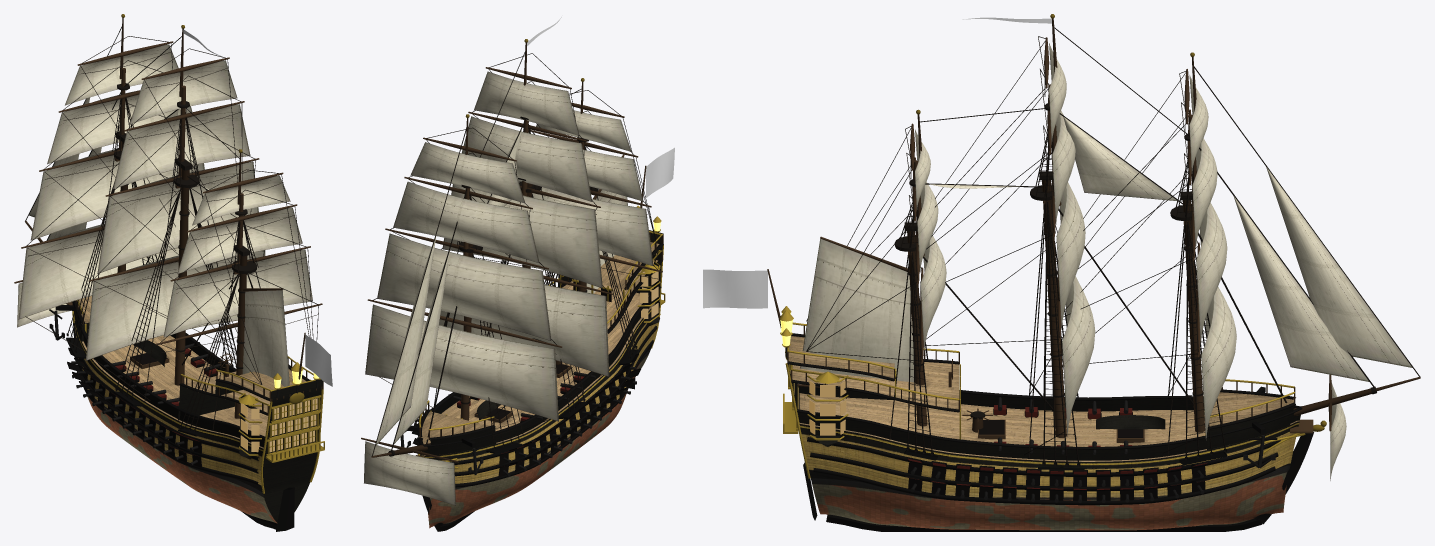
The model's file is battleship.gltf.
3 views of the same model, side by side, from view 1: azimuth 30°, elevation 25°; view 2: azimuth 150°, elevation 25°; view 3: azimuth 270°, elevation 25° (orthographic). The views are drawn at different scales.
Parts seen in each view (by area): view 1: Hull, Sail_1_1_E, Sail_1_0, Sail_1_2, Sail_2_1, Sail_0_0, Sail_0_1_E, Sail_2_2, Sail_spanker, Sail_0_2, Sail_1_3, Sail_0_3 (+3 smaller); view 2: Hull, Sail_0_0, Sail_0_1_E, Sail_0_2, Sail_1_1_E, Sail_1_0, Sail_1_2, Sail_1_3, Sail_sprit, Sail_0_3, Sail_2_1, Sail_jib_1 (+5 smaller); view 3: Hull, Sail_spanker, Sail_jib_1, Sail_jib_0, Sail_stay_1, Sail_0_0, Sail_1_0, Flag, Sail_0_1_E, Sail_1_1_E, Sail_2_1, Sail_0_2 (+5 smaller).
Boxes of the visible parts, box(x1,y1,x2,y2) form: Hull: box(14, 14, 324, 531); Sail_1_1_E: box(97, 161, 258, 273); Sail_1_0: box(85, 250, 265, 360); Sail_1_2: box(113, 104, 250, 189); Sail_2_1: box(163, 249, 312, 337); Sail_0_0: box(18, 224, 179, 319); Sail_0_1_E: box(30, 149, 204, 240); Sail_2_2: box(177, 207, 302, 273); Sail_spanker: box(242, 289, 289, 386); Sail_0_2: box(47, 90, 192, 164); Sail_1_3: box(129, 60, 237, 124); Sail_0_3: box(65, 44, 178, 105); Hull: box(361, 39, 665, 531); Sail_0_0: box(365, 304, 558, 421); Sail_0_1_E: box(377, 233, 551, 340); Sail_0_2: box(393, 181, 539, 263); Sail_1_1_E: box(442, 184, 602, 288); Sail_1_0: box(439, 284, 609, 376); Sail_1_2: box(462, 116, 592, 201); Sail_1_3: box(474, 71, 579, 135); Sail_sprit: box(364, 441, 455, 505); Sail_0_3: box(410, 142, 525, 203); Sail_2_1: box(518, 181, 653, 266); Sail_jib_1: box(375, 236, 436, 445); Hull: box(767, 14, 1420, 531); Sail_spanker: box(797, 238, 913, 384); Sail_jib_1: box(1266, 167, 1412, 367); Sail_jib_0: box(1233, 196, 1369, 381); Sail_stay_1: box(1063, 117, 1177, 201); Sail_0_0: box(1201, 287, 1236, 440); Sail_1_0: box(1062, 276, 1095, 436); Flag: box(703, 269, 767, 308); Sail_0_1_E: box(1196, 202, 1227, 344); Sail_1_1_E: box(1056, 182, 1085, 328); Sail_2_1: box(920, 236, 946, 352); Sail_0_2: box(1192, 138, 1217, 248).
Bounding box in the file's own units: 17.28 × 37.02 × 46.5.
18 materials, 4 textured.
